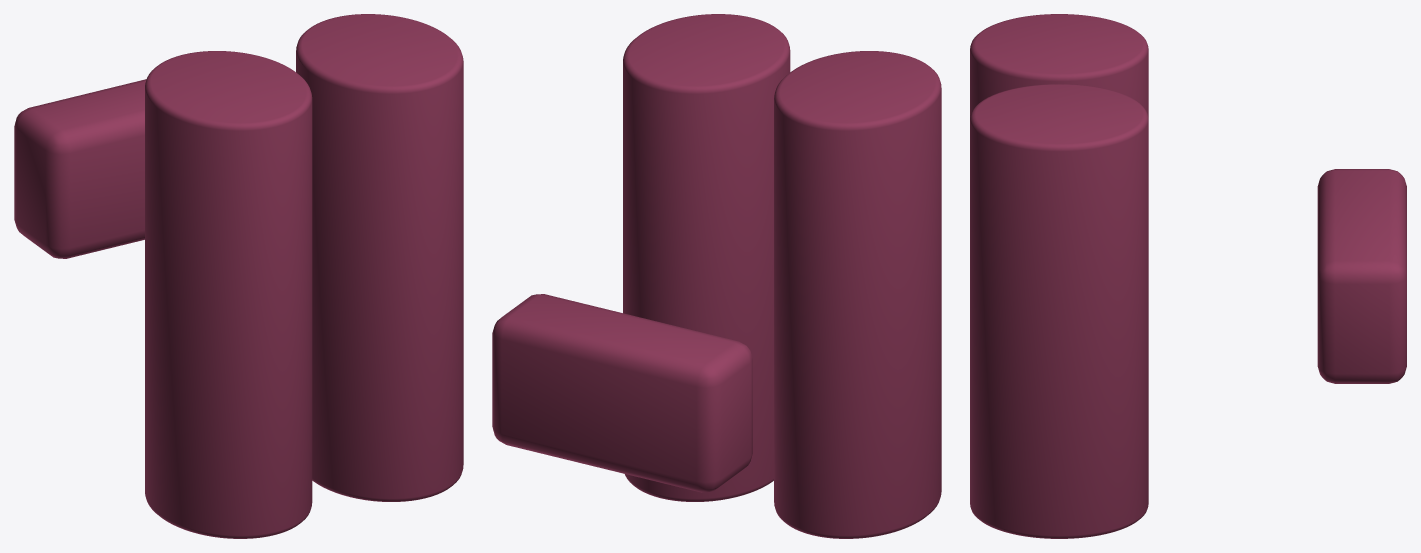
Rendered from pants.glb.
3 views of the same model, side by side, from view 1: azimuth 30°, elevation 25°; view 2: azimuth 150°, elevation 25°; view 3: azimuth 270°, elevation 25° (orthographic). The views are drawn at different scales.
Parts seen in each view (by area): view 1: IMPAR_PANTS_PROXY; view 2: IMPAR_PANTS_PROXY; view 3: IMPAR_PANTS_PROXY.
Boxes of the visible parts, box(x1,y1,x2,y2) form: IMPAR_PANTS_PROXY: box(14, 14, 463, 538); IMPAR_PANTS_PROXY: box(492, 14, 941, 538); IMPAR_PANTS_PROXY: box(970, 14, 1406, 538).
Size of the model in its own units: 0.996 by 1.37 by 1.37.
